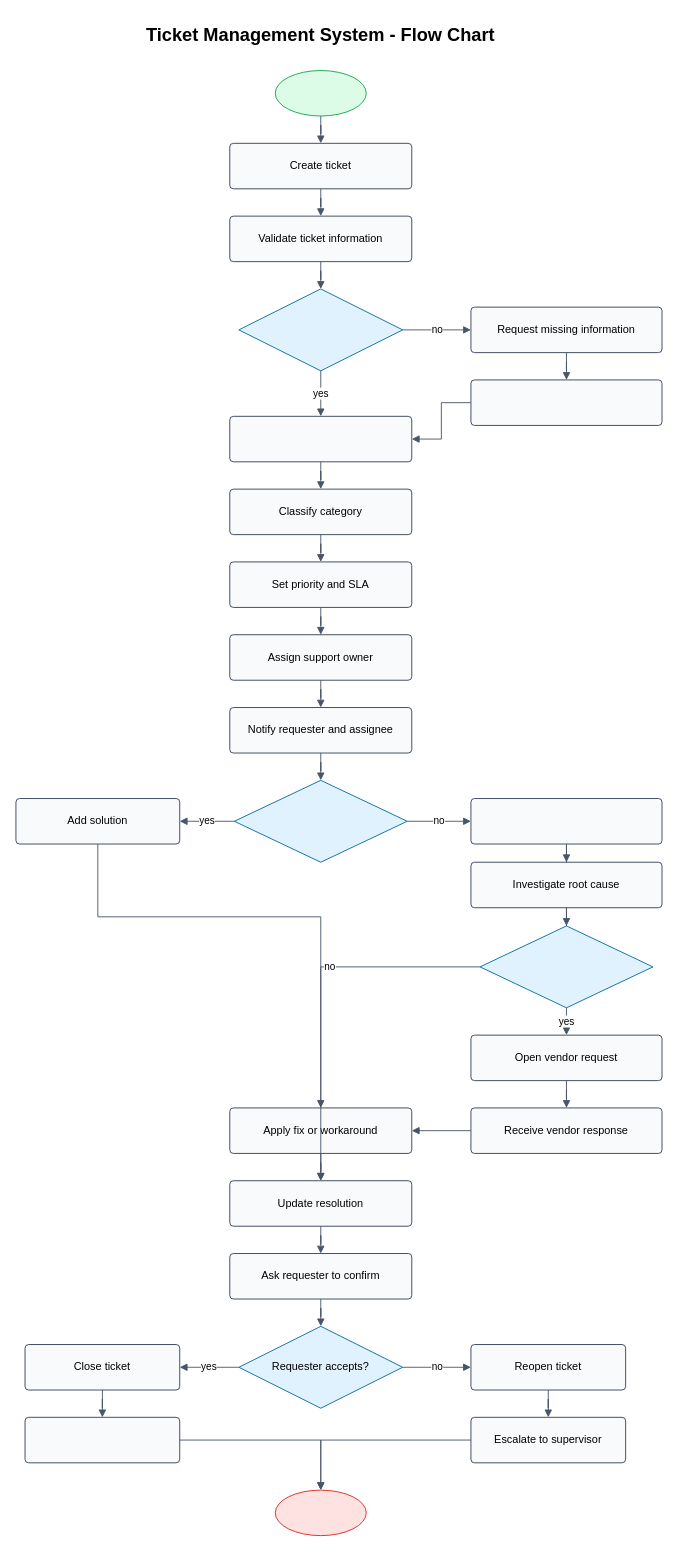
The diagram is 678 pixels wide and 1552 high, and some of its shapes have lost their labels. The centre of each missing label's shape, as x and y in pixels:
"End" belongs at [320,1512].
"Escalate to specialist" belongs at [566,821].
"First level can resolve?" belongs at [320,820].
"Generate ticket ID" belongs at [320,438].
"Information complete?" belongs at [320,329].
"Send satisfaction survey" belongs at [102,1439].
"Start" belongs at [320,93].
"Update ticket details" belongs at [566,402].
"Vendor support needed?" belongs at [566,966].
